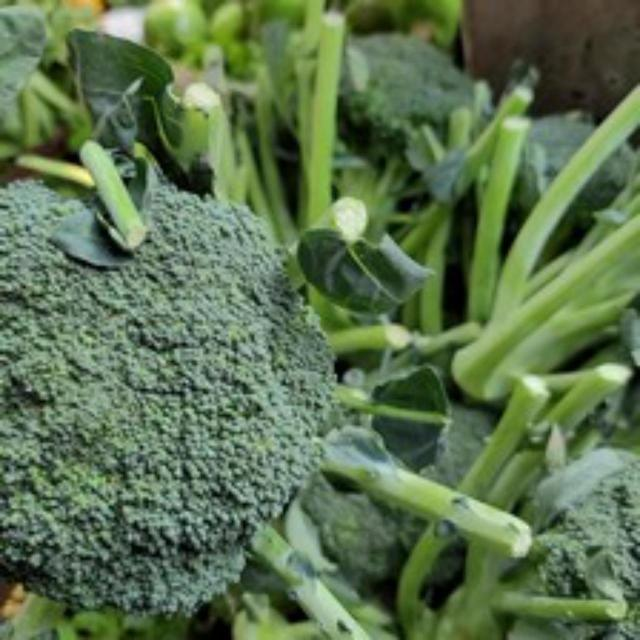broccoli: (0, 148, 337, 637)
